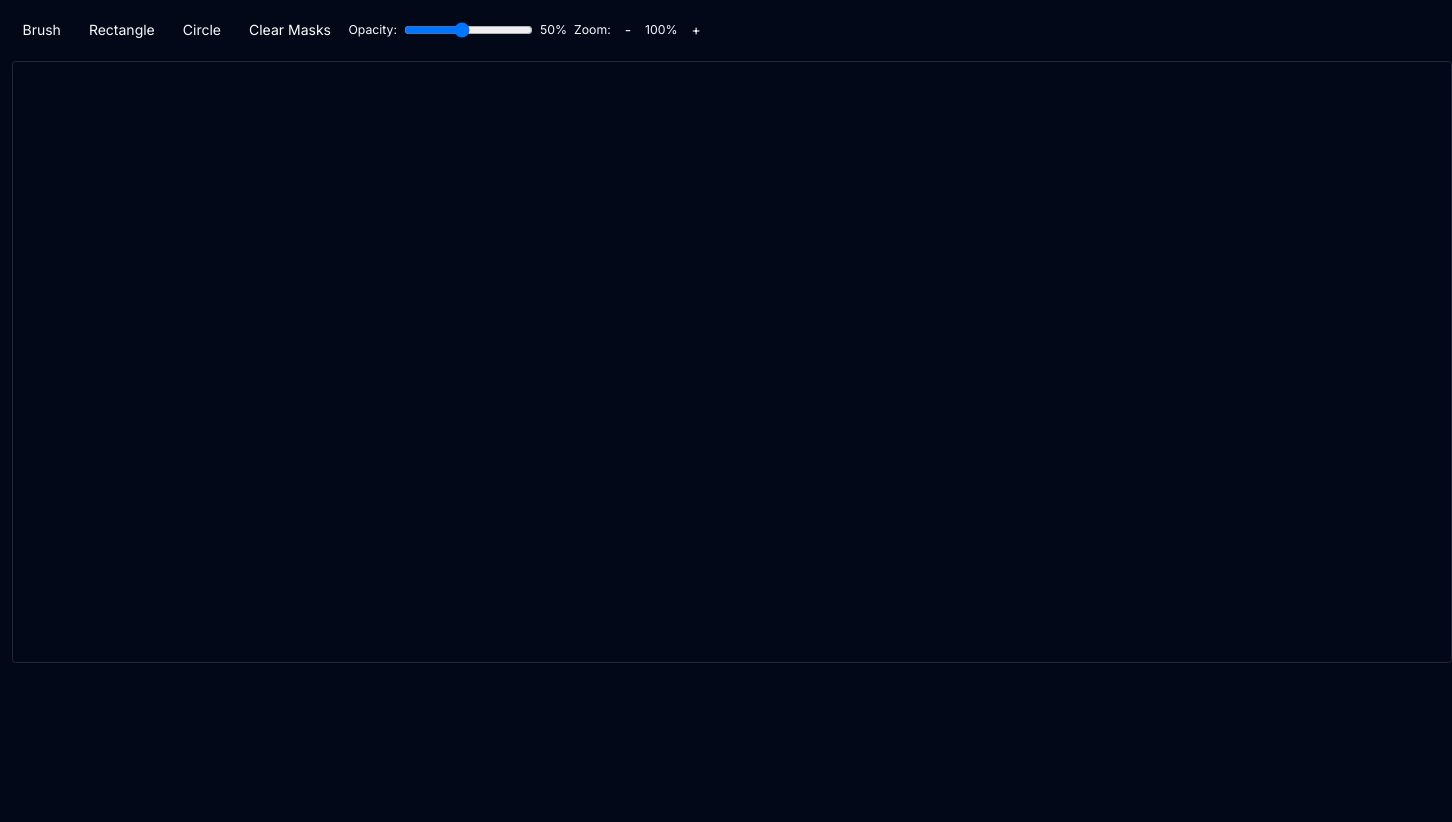
CanvasInterface › Tool Activation › should update brush size when slider is changed
This screenshot has width=1452, height=822.
Click the button "Brush".
click(42, 30)  # box top-left (12, 12), bottom-right (71, 47)
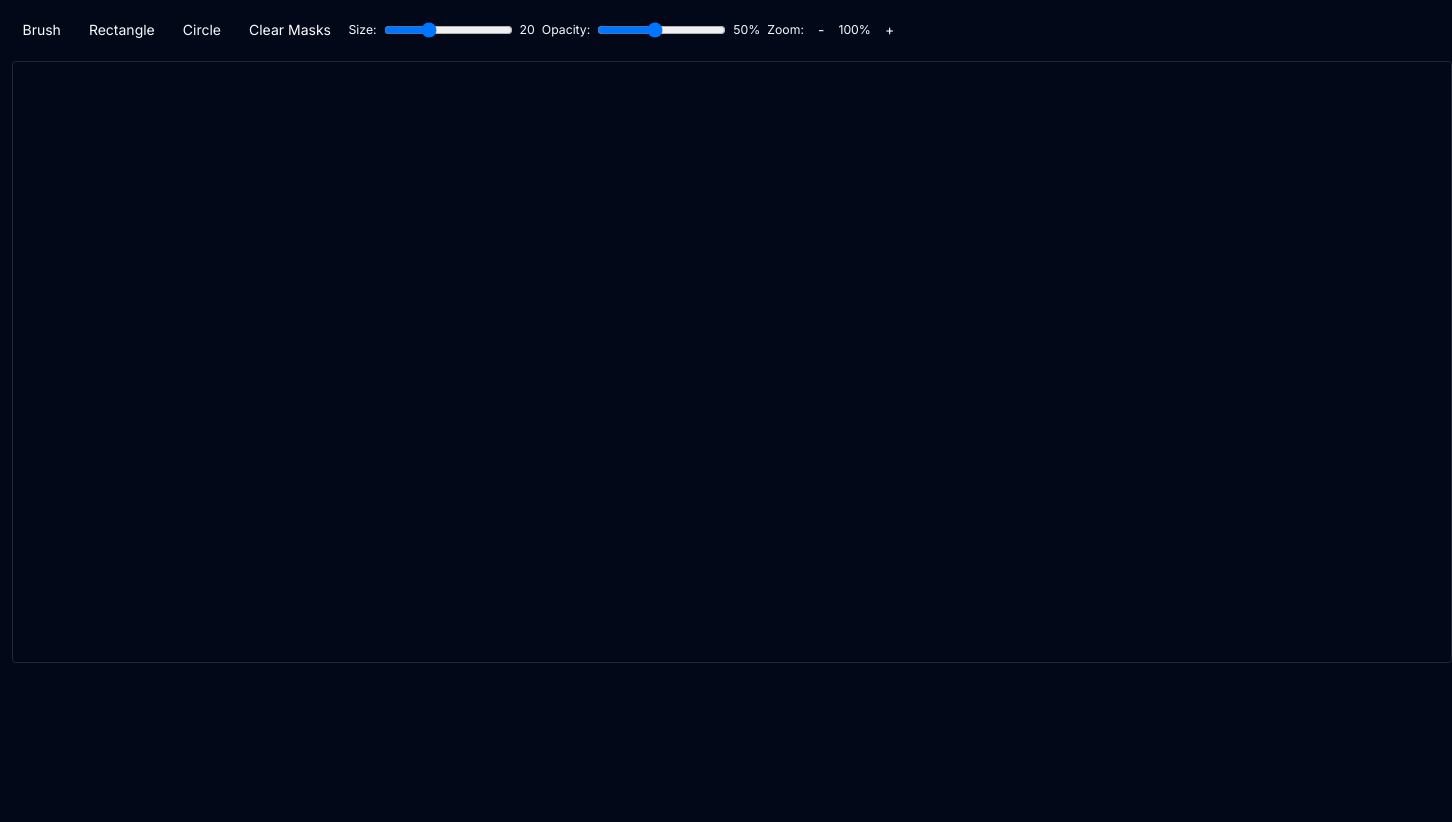
Set the slider showing "20" next to "Size:" to "30" at x=454, y=30, box top-left (384, 22), bottom-right (513, 38)
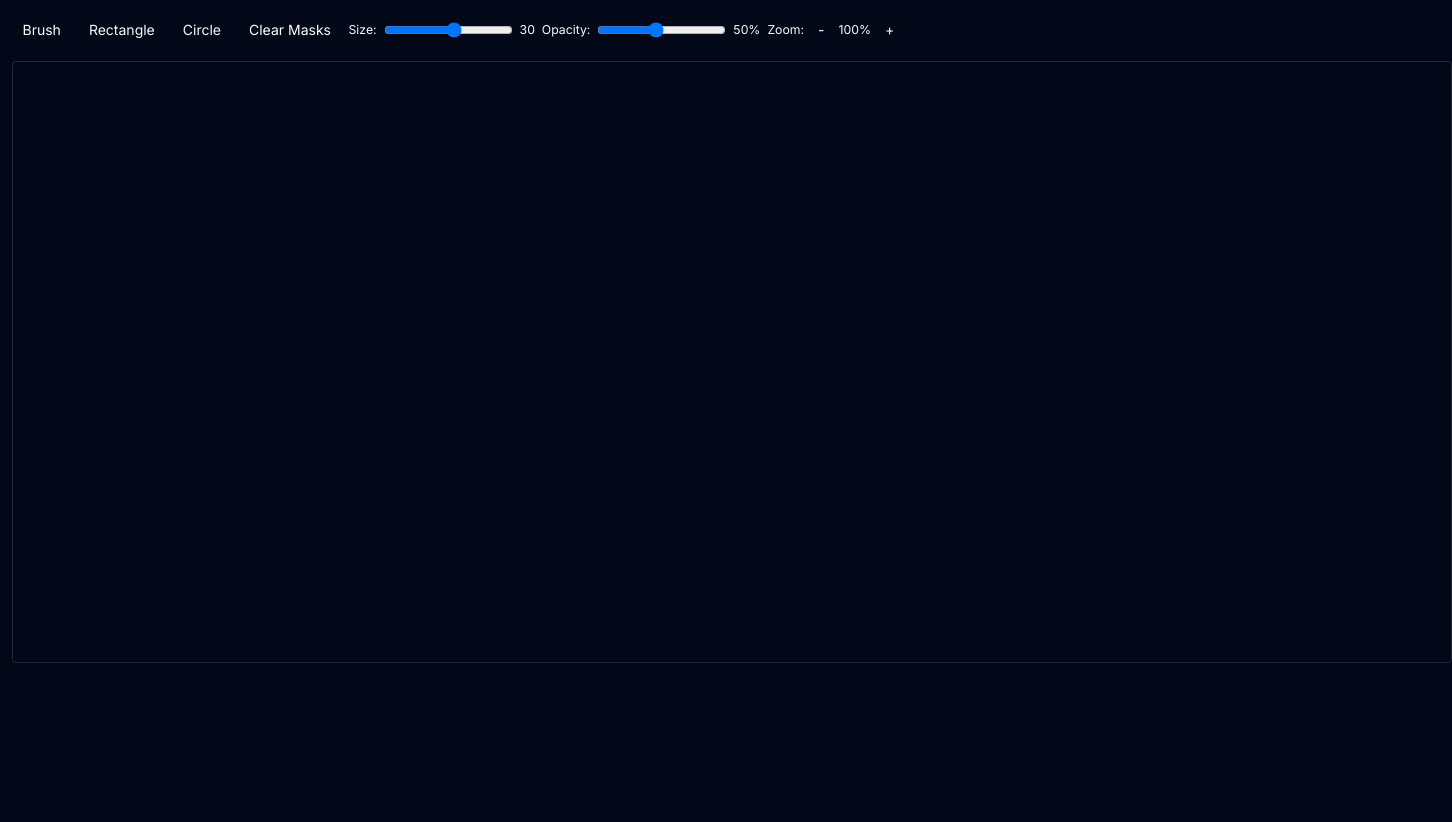
Now the text "30" is shown, box top-left (520, 21), bottom-right (535, 38)
